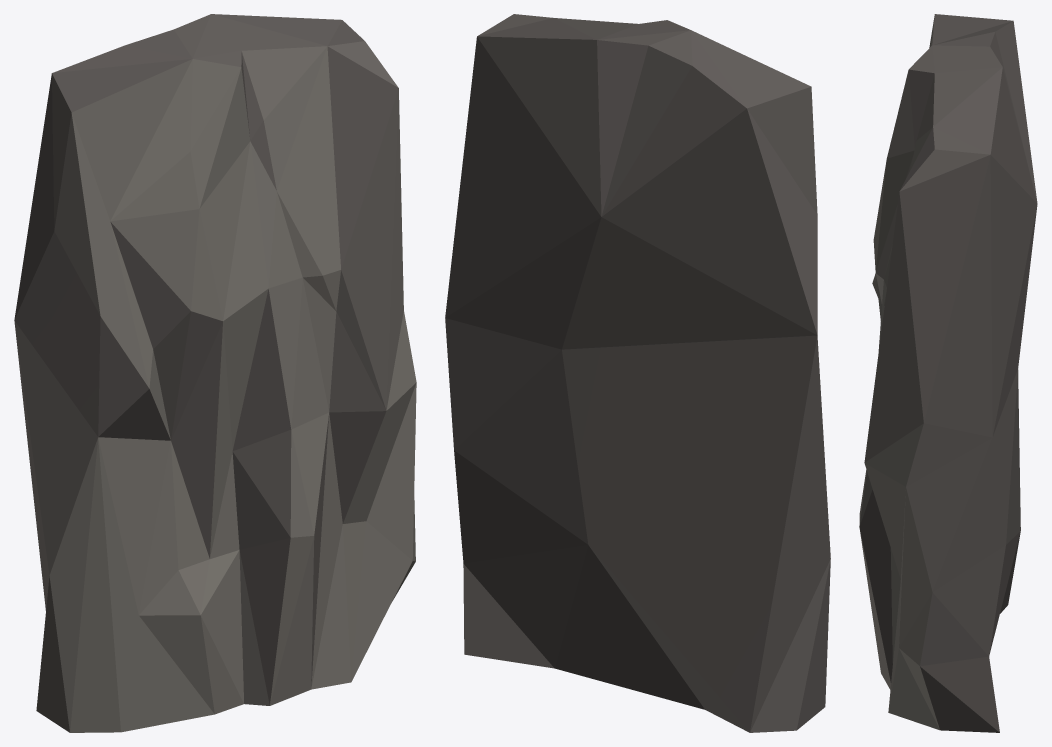
Rendered from SM_Env_Cave_01_DoubleSided.glb.
3 renders of one model, left to right at view 1: azimuth 30°, elevation 25°; view 2: azimuth 150°, elevation 25°; view 3: azimuth 270°, elevation 25°, orthographic. The views are drawn at different scales.
Visible parts, largest first — view 1: SM_Env_Cave_01_DoubleSided; view 2: SM_Env_Cave_01_DoubleSided; view 3: SM_Env_Cave_01_DoubleSided.
Boxes of the visible parts, x1,y1,x2,y2 form: SM_Env_Cave_01_DoubleSided: [14, 14, 416, 732]; SM_Env_Cave_01_DoubleSided: [445, 14, 830, 732]; SM_Env_Cave_01_DoubleSided: [859, 14, 1037, 732].
Size of the model in its own units: 0.0635 by 0.1048 by 0.0278.
1 material, 1 textured.
